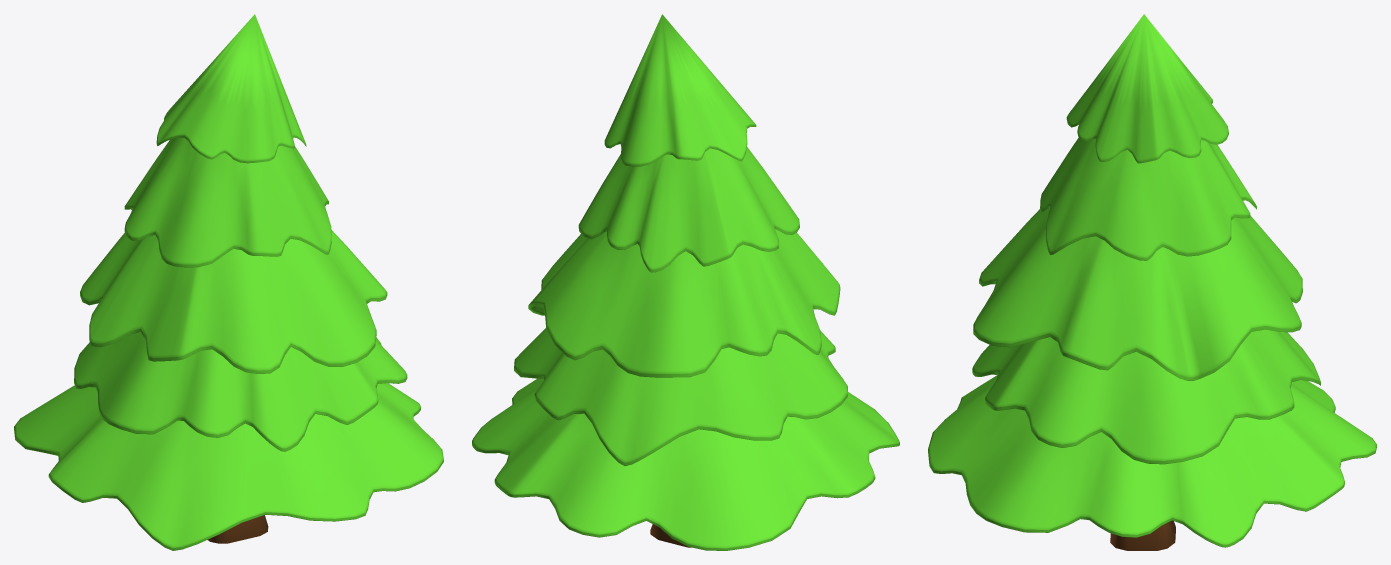
Rendered from pinetree_02.glb.
The picture shows the model from 3 angles, left to right: view 1: azimuth 30°, elevation 25°; view 2: azimuth 150°, elevation 25°; view 3: azimuth 270°, elevation 25°; orthographic projection. The views are drawn at different scales.
Parts seen in each view (by area): view 1: Circle.006, Circle.008, Circle.007, Circle.009, Circle.010, Circle.011; view 2: Circle.006, Circle.008, Circle.007, Circle.009, Circle.010; view 3: Circle.006, Circle.008, Circle.007, Circle.009, Circle.010, Circle.011.
Part boxes in pixels (x1=…): Circle.006: x1=14, y1=383, x2=443, y2=550; Circle.008: x1=80, y1=230, x2=387, y2=373; Circle.007: x1=74, y1=332, x2=407, y2=451; Circle.009: x1=124, y1=137, x2=331, y2=267; Circle.010: x1=156, y1=14, x2=306, y2=163; Circle.011: x1=207, y1=515, x2=268, y2=543; Circle.006: x1=472, y1=378, x2=899, y2=550; Circle.008: x1=528, y1=229, x2=840, y2=377; Circle.007: x1=514, y1=328, x2=847, y2=465; Circle.009: x1=578, y1=147, x2=799, y2=272; Circle.010: x1=604, y1=14, x2=756, y2=166; Circle.006: x1=928, y1=375, x2=1376, y2=547; Circle.008: x1=973, y1=209, x2=1302, y2=380; Circle.007: x1=972, y1=329, x2=1320, y2=464; Circle.009: x1=1040, y1=138, x2=1256, y2=260; Circle.010: x1=1066, y1=14, x2=1228, y2=163; Circle.011: x1=1110, y1=520, x2=1175, y2=550.
Size of the model in its own units: 1.53 by 2.11 by 1.61.
